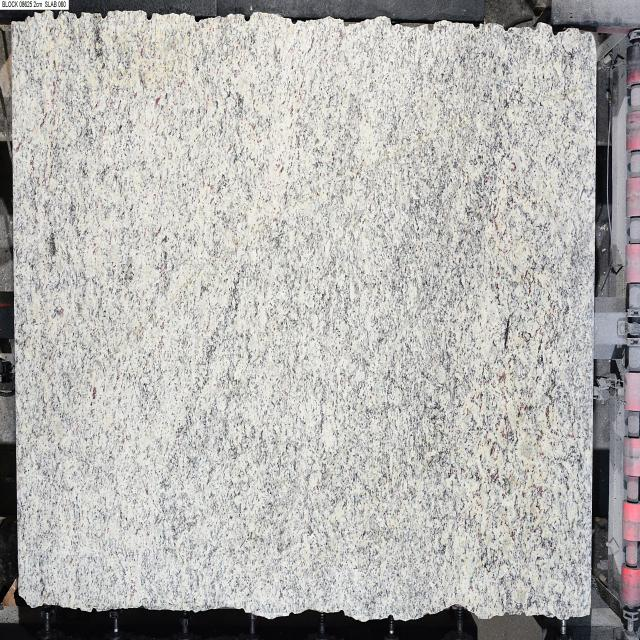chapa: (12, 13, 595, 622)
